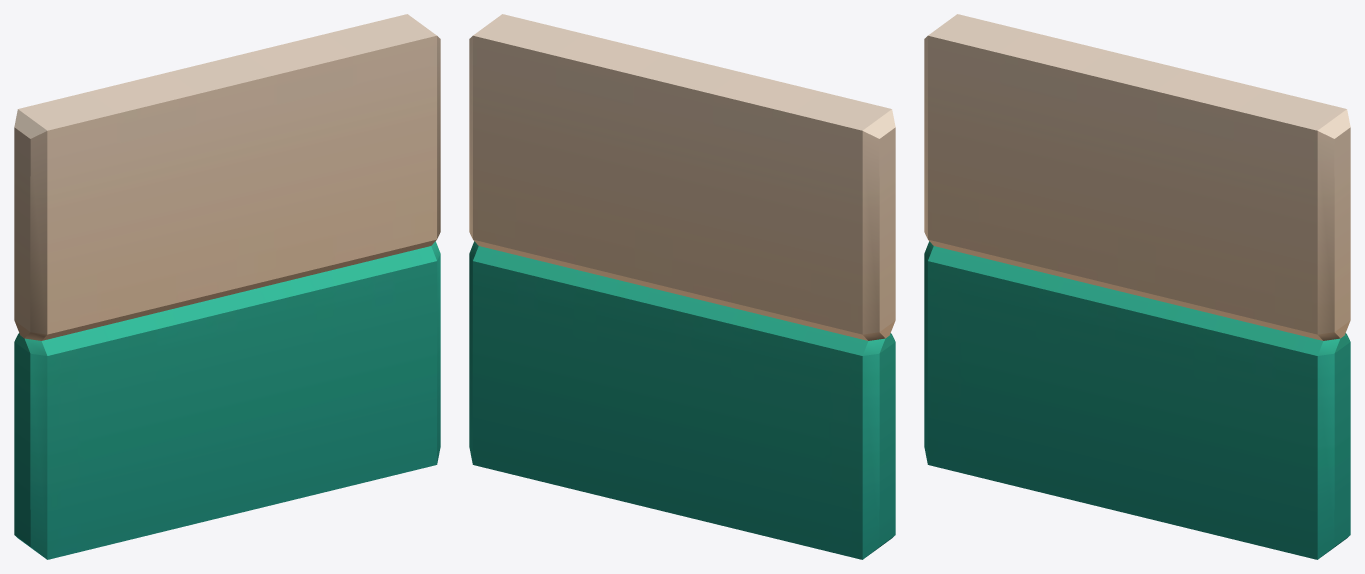
Rendered from wall.glb.
The picture shows the model from 3 angles, left to right: view 1: azimuth 30°, elevation 25°; view 2: azimuth 150°, elevation 25°; view 3: azimuth 330°, elevation 25°; orthographic projection.
Visible parts, largest first — view 1: wall; view 2: wall; view 3: wall.
Boxes of the visible parts, x1,y1,x2,y2 form: wall: [14, 14, 440, 559]; wall: [469, 14, 895, 559]; wall: [924, 14, 1350, 559].
Bounding box in the file's own units: 4 × 4 × 0.5.
1 material, 1 textured.
